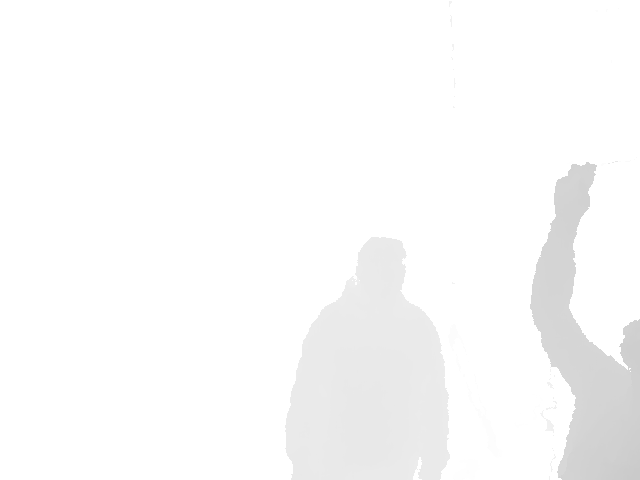hand: (555, 162, 596, 223)
head: (357, 236, 407, 302), (621, 315, 640, 373)
person: (283, 236, 452, 480), (528, 162, 640, 480)
